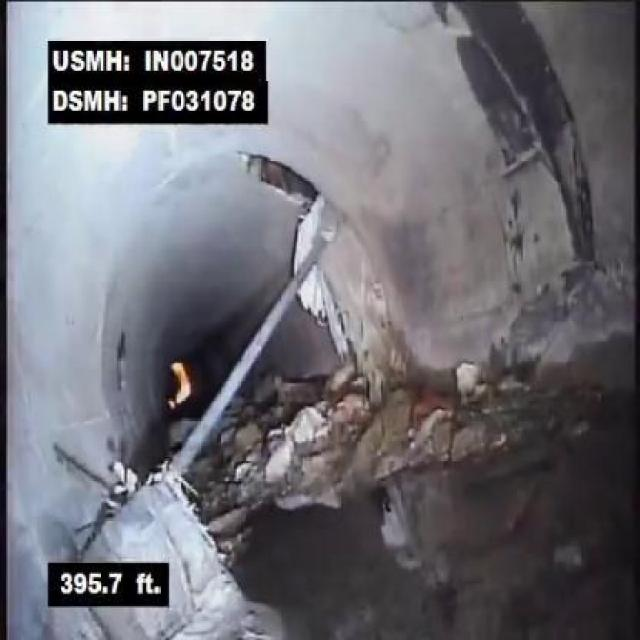Debris: (377, 340, 561, 508), (234, 363, 354, 528)
Utility intrusion: (117, 196, 348, 487)
